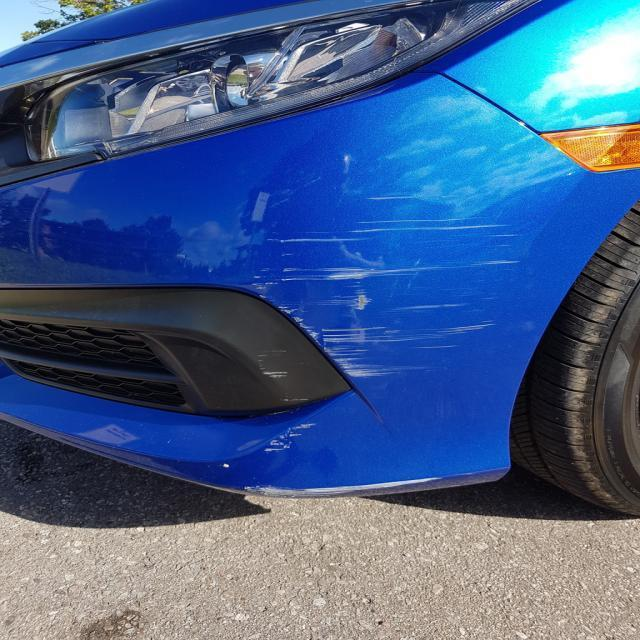scratch: (247, 182, 538, 370), (248, 418, 348, 482)
